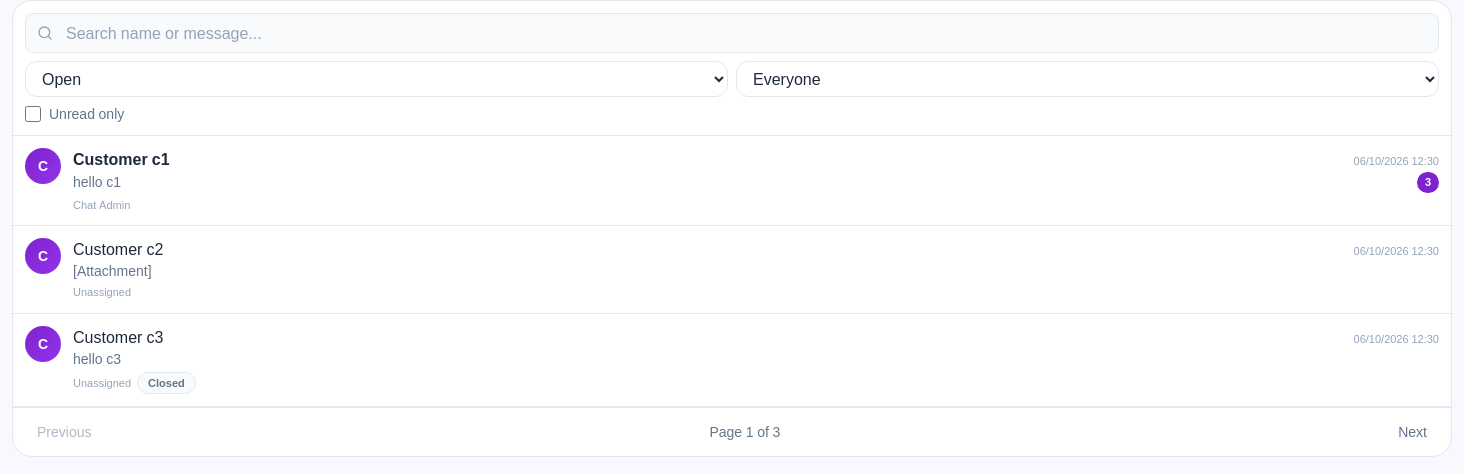
Test: ConversationList › ແບ່ງໜ້າ: 'Page 1 / 3', ກ່ອນໜ້າຖືກປິດຢູ່ໜ້າ 1, ໜ້າຕໍ່ໄປຂໍ page=2
expect the button with test id "conversation-c1" is shown: met, box [13,136,1451,226]
expect the text "Page 1 of 3" is shown: met, box [709,423,780,441]
Click the button "Next" at (1413,432), box [1386,416,1439,448]
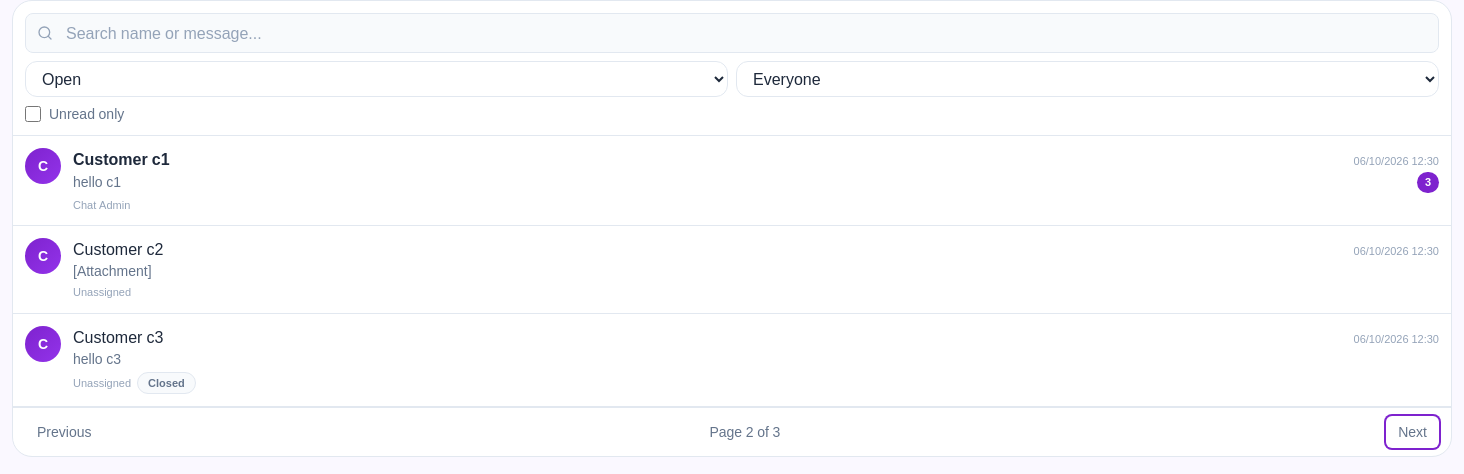
expect the text "Page 2 of 3" is shown: met, box [709,423,780,441]
